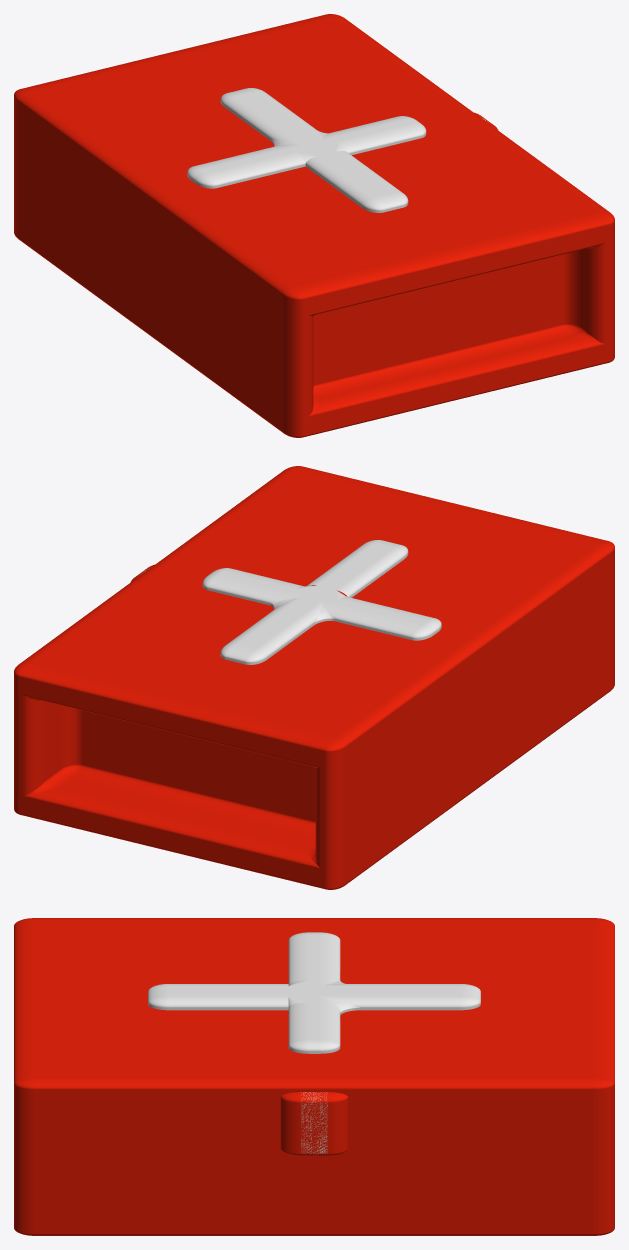
Rendered from MedKit.fbx.
3 views of the same model, one above another, from view 1: azimuth 30°, elevation 25°; view 2: azimuth 150°, elevation 25°; view 3: azimuth 270°, elevation 25° (orthographic). The views are drawn at different scales.
Visible parts, largest first — view 1: Cube; view 2: Cube; view 3: Cube.
Boxes of the visible parts, bbox=[...] form: Cube: bbox=[14, 14, 614, 437]; Cube: bbox=[14, 466, 614, 889]; Cube: bbox=[14, 918, 614, 1235].
Size of the model in its own units: 288 by 126 by 420.
